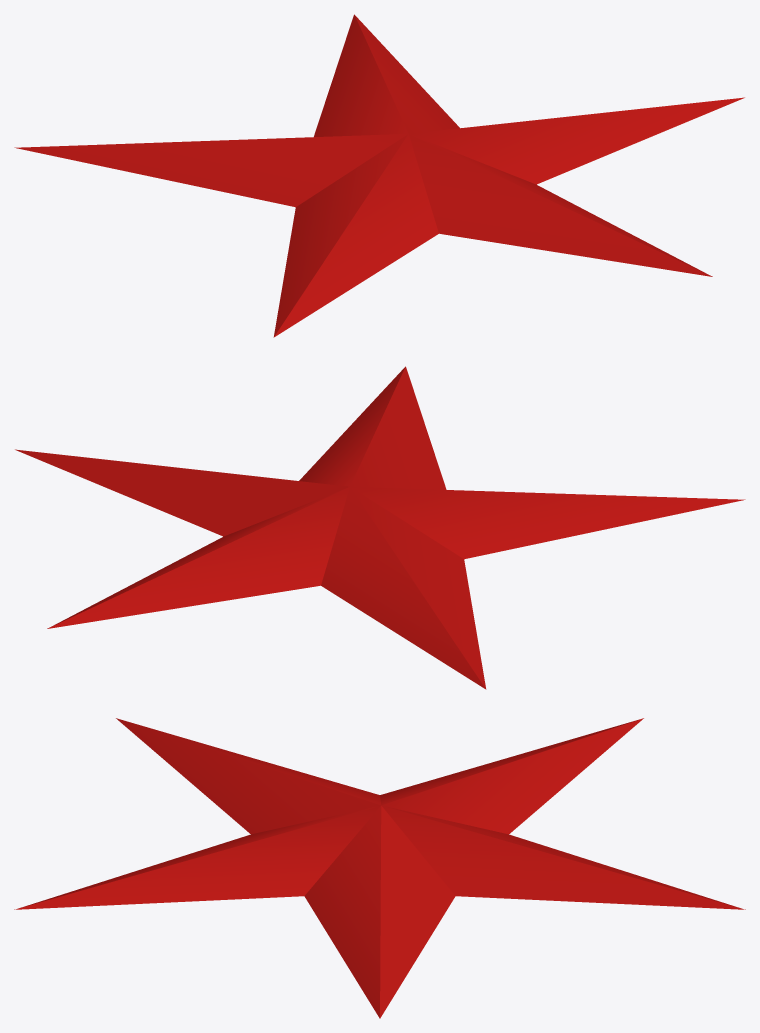
The model's file is estrella.FBX.
3 views of the same model, one above another, from view 1: azimuth 30°, elevation 25°; view 2: azimuth 150°, elevation 25°; view 3: azimuth 270°, elevation 25° (orthographic).
Visible parts, largest first — view 1: Star001; view 2: Star001; view 3: Star001.
Part boxes in pixels (<box>): Star001: <box>14,14,744,337</box>; Star001: <box>15,366,745,689</box>; Star001: <box>14,718,745,1018</box>.
Size of the model in its own units: 27.81 by 2 by 28.74.
